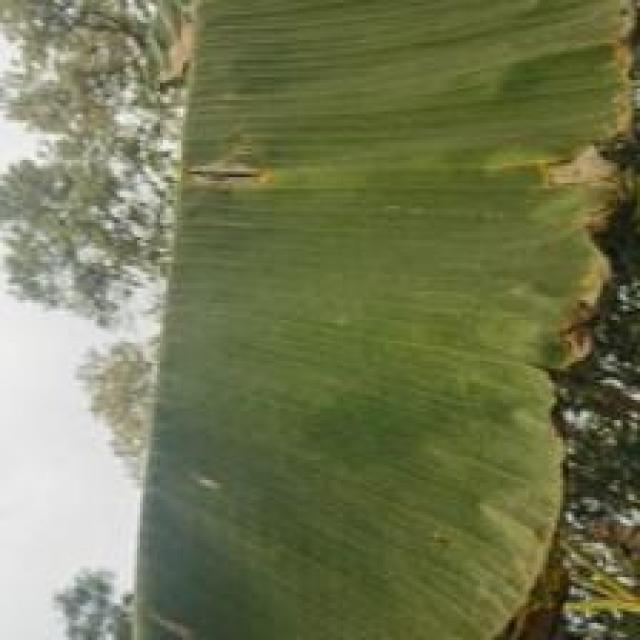Downey_mildrew: (445, 0, 640, 640), (184, 146, 275, 212)
